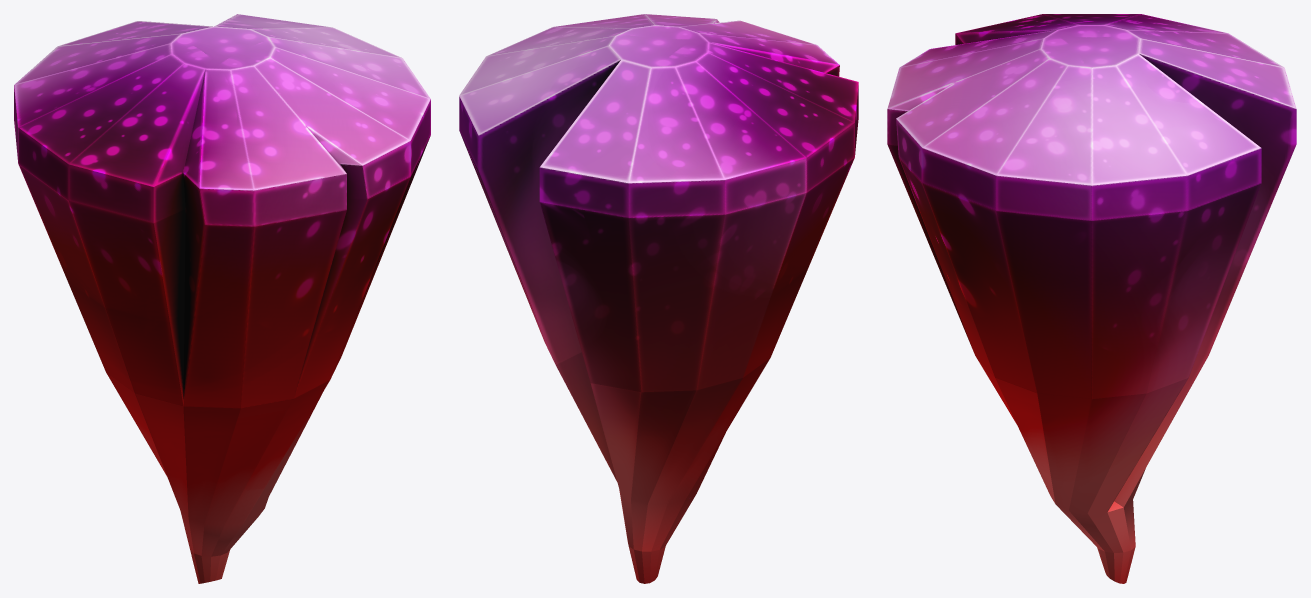
File: Crystal_52.fbx
3 renders of one model, left to right at view 1: azimuth 30°, elevation 25°; view 2: azimuth 150°, elevation 25°; view 3: azimuth 270°, elevation 25°, orthographic. The views are drawn at different scales.
Parts seen in each view (by area): view 1: Crystal_52; view 2: Crystal_52; view 3: Crystal_52.
Boxes of the visible parts, x1,y1,x2,y2 form: Crystal_52: [14, 14, 430, 583]; Crystal_52: [459, 14, 858, 583]; Crystal_52: [887, 14, 1296, 583].
Size of the model in its own units: 64.81 by 94.27 by 65.28.
